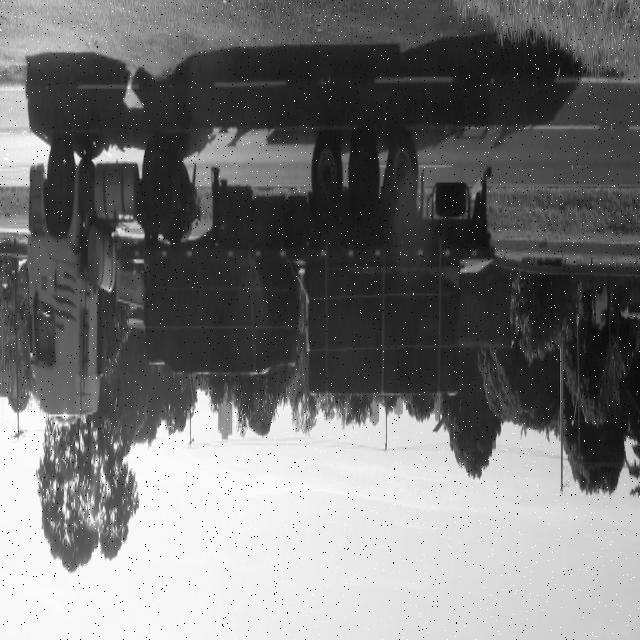-axle: (44, 140, 75, 228), (348, 133, 380, 214), (315, 136, 345, 220), (139, 137, 170, 215), (387, 144, 418, 218)
